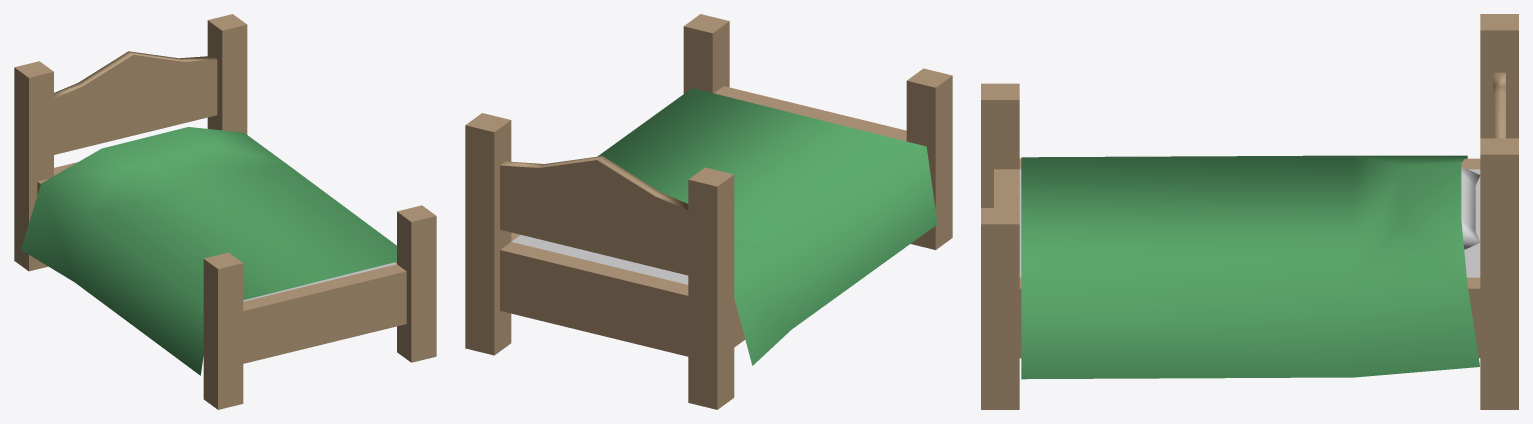
Rendered from bed.dae.
The picture shows the model from 3 angles, left to right: view 1: azimuth 30°, elevation 25°; view 2: azimuth 150°, elevation 25°; view 3: azimuth 270°, elevation 25°; orthographic projection. The views are drawn at different scales.
Parts seen in each view (by area): view 1: Blanket, Bed; view 2: Bed, Blanket; view 3: Blanket, Bed, Pillow.
Part boxes in pixels (x1,y1,x2,y2): Blanket: [21, 127, 396, 375]; Bed: [14, 14, 436, 409]; Bed: [465, 14, 952, 409]; Blanket: [597, 88, 937, 365]; Blanket: [1021, 155, 1479, 379]; Bed: [981, 14, 1518, 409]; Pillow: [1461, 167, 1480, 249].
Size of the model in its own units: 1.41 by 2.1 by 1.1.
